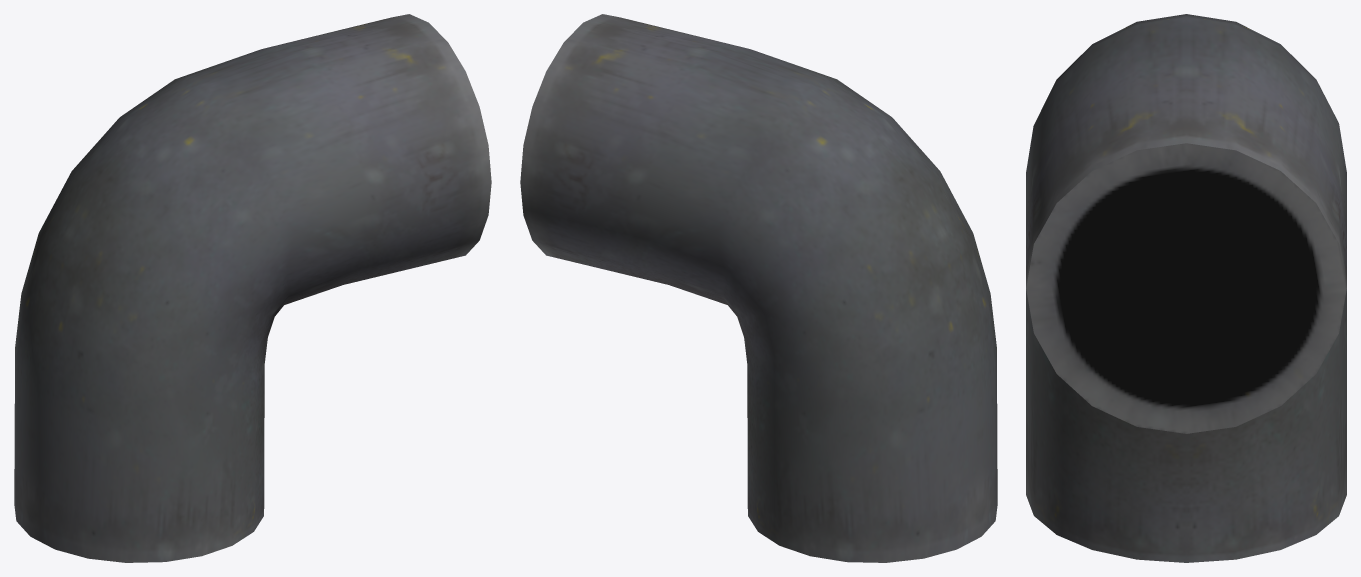
The model's file is PlasticPipe_04a_snaps019.fbx.
3 views of the same model, side by side, from view 1: azimuth 30°, elevation 25°; view 2: azimuth 150°, elevation 25°; view 3: azimuth 270°, elevation 25° (orthographic). The views are drawn at different scales.
Parts seen in each view (by area): view 1: PlasticPipe_04a_snaps019_LOD0; view 2: PlasticPipe_04a_snaps019_LOD0; view 3: PlasticPipe_04a_snaps019_LOD0.
Boxes of the visible parts, x1=… form: PlasticPipe_04a_snaps019_LOD0: x1=14, y1=14, x2=491, y2=562; PlasticPipe_04a_snaps019_LOD0: x1=520, y1=14, x2=997, y2=562; PlasticPipe_04a_snaps019_LOD0: x1=1026, y1=14, x2=1346, y2=562.
Size of what is drawn, in the model's own units: 34.39 by 34.39 by 18.78.
